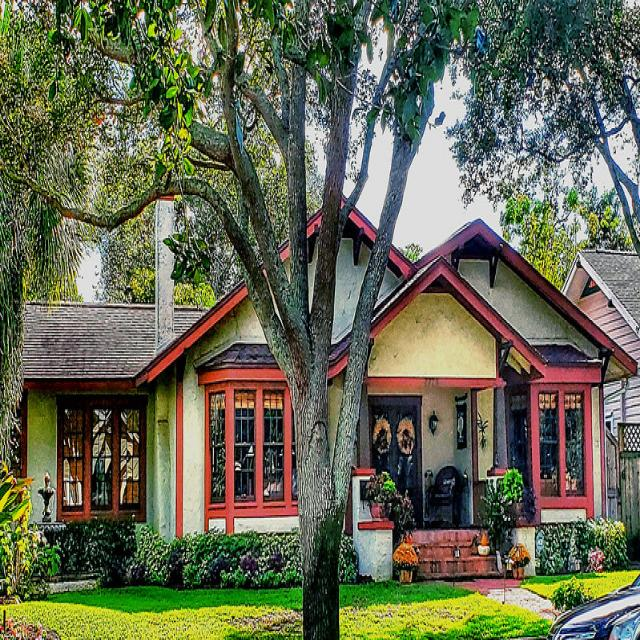Normal_building: (134, 163, 639, 599), (11, 296, 216, 570)
